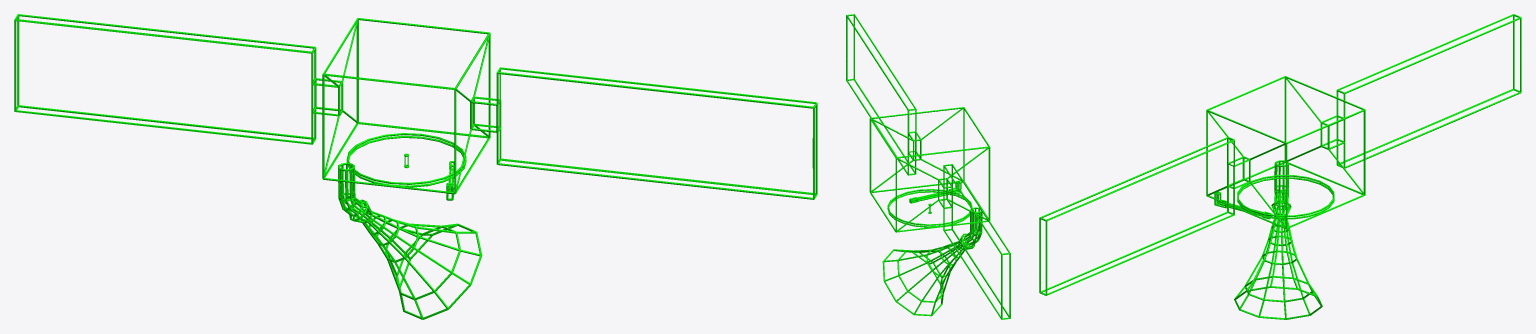
Rendered from satalite.fbx.
3 renders of one model, left to right at view 1: azimuth 30°, elevation 25°; view 2: azimuth 150°, elevation 25°; view 3: azimuth 270°, elevation 25°, orthographic. The views are drawn at different scales.
Visible parts, largest first — view 1: Main; view 2: Main; view 3: Main.
Boxes of the visible parts, x1,y1,x2,y2 form: Main: (14, 14, 817, 319); Main: (846, 14, 1010, 319); Main: (1039, 14, 1521, 319).
Bounding box in the file's own units: 52.9 × 25.27 × 52.23.
